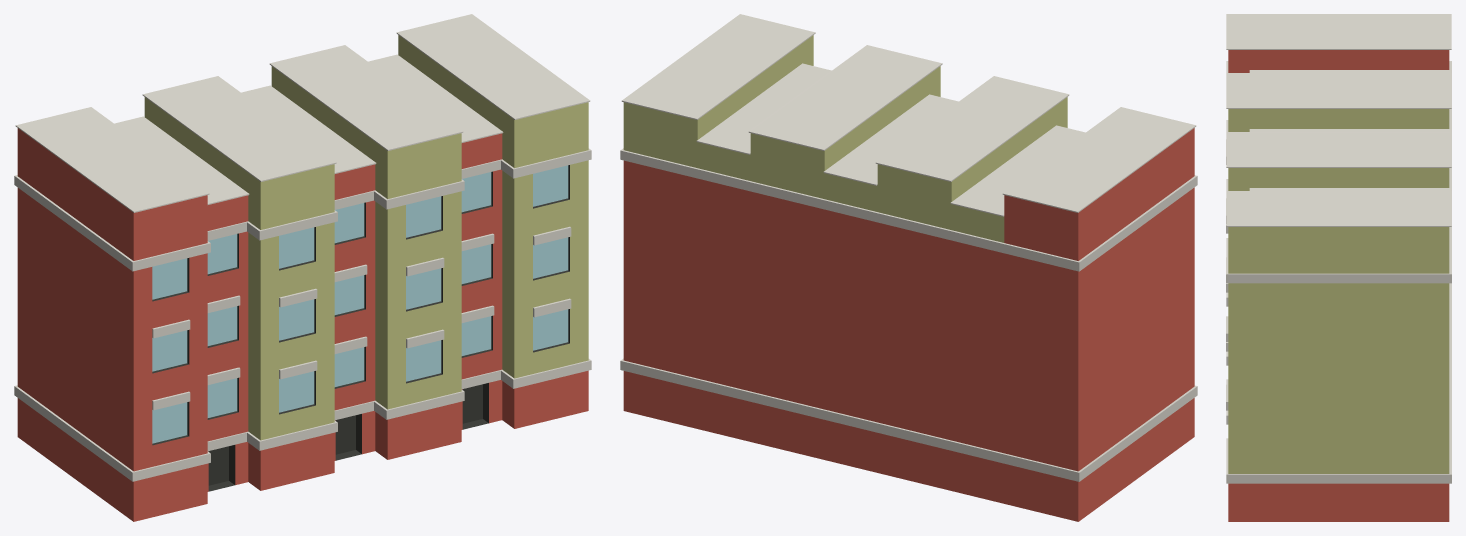
File: Apartment01_HIGHLIGHT.fbx
3 renders of one model, left to right at view 1: azimuth 30°, elevation 25°; view 2: azimuth 150°, elevation 25°; view 3: azimuth 270°, elevation 25°, orthographic. The views are drawn at different scales.
Parts seen in each view (by area): view 1: Apartment02; view 2: Apartment02; view 3: Apartment02.
Boxes of the visible parts, x1,y1,x2,y2 form: Apartment02: (14, 14, 591, 521); Apartment02: (620, 14, 1197, 521); Apartment02: (1226, 14, 1451, 521).
Bounding box in the file's own units: 434 × 281 × 194.
